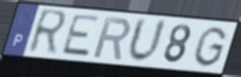8: (163, 23, 193, 65)
E: (59, 13, 103, 59)
G: (191, 25, 229, 68)
R: (26, 7, 70, 57), (91, 15, 133, 61)
U: (125, 16, 169, 65)
